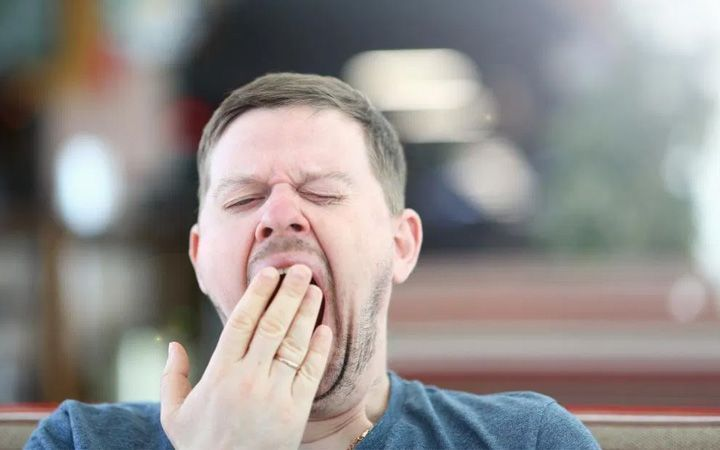human: (26, 65, 601, 450)
